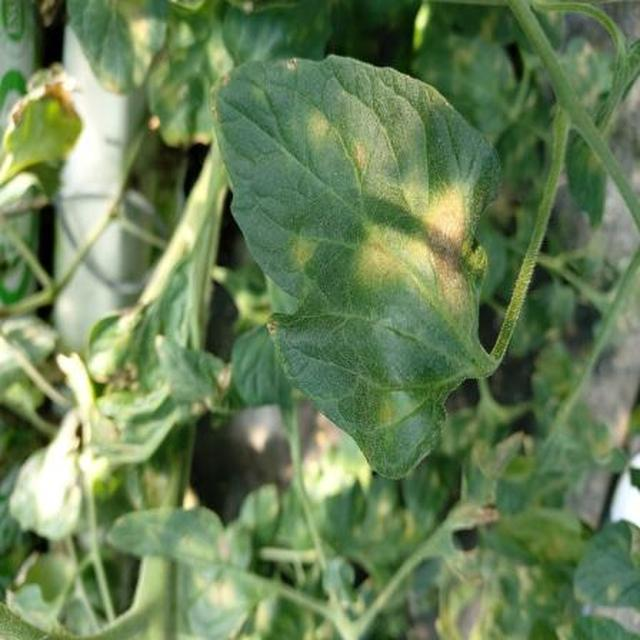Leaf Mold: (301, 72, 640, 640)
